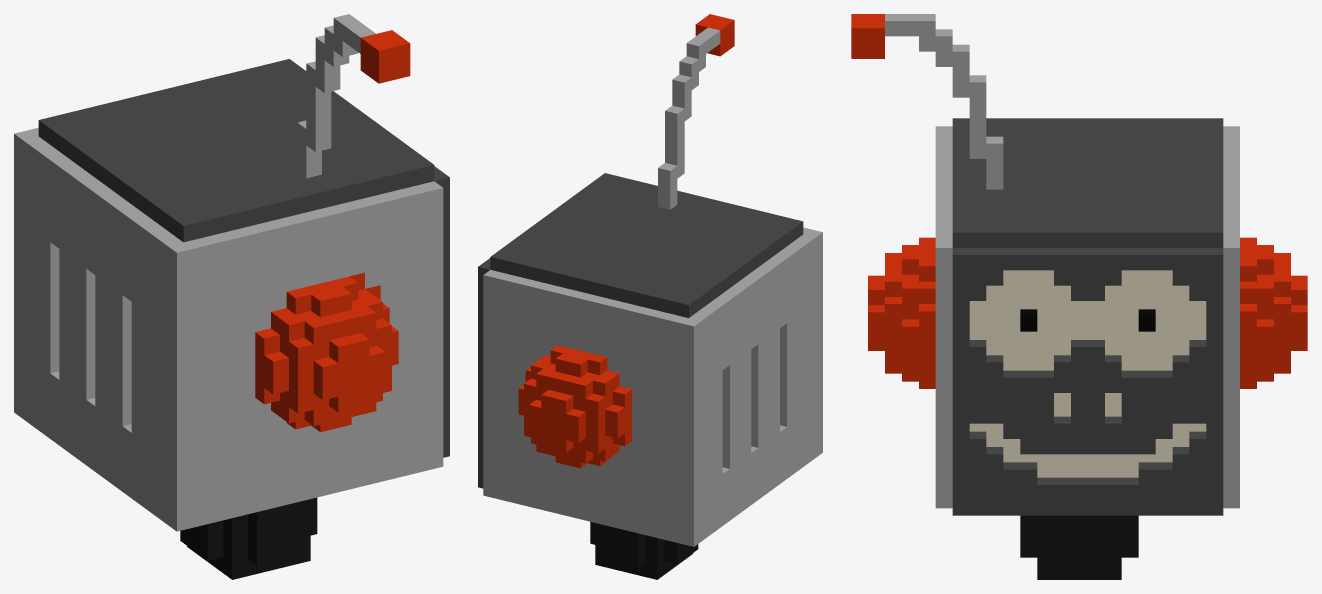
The model's file is tete.obj.
The picture shows the model from 3 angles, left to right: view 1: azimuth 30°, elevation 25°; view 2: azimuth 150°, elevation 25°; view 3: azimuth 270°, elevation 25°; orthographic projection. The views are drawn at different scales.
Bounding box in the file's own units: 18 × 36 × 27.
1 material, 1 textured.
